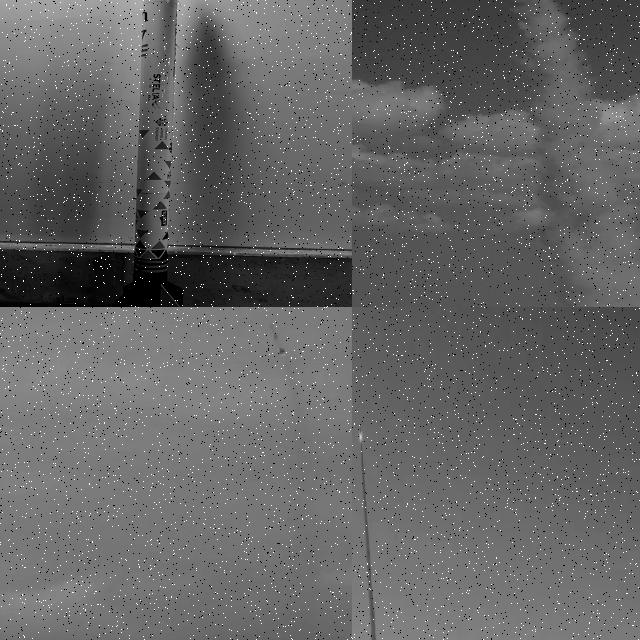Rocket: (111, 0, 184, 307), (268, 322, 288, 356), (360, 428, 361, 433)
